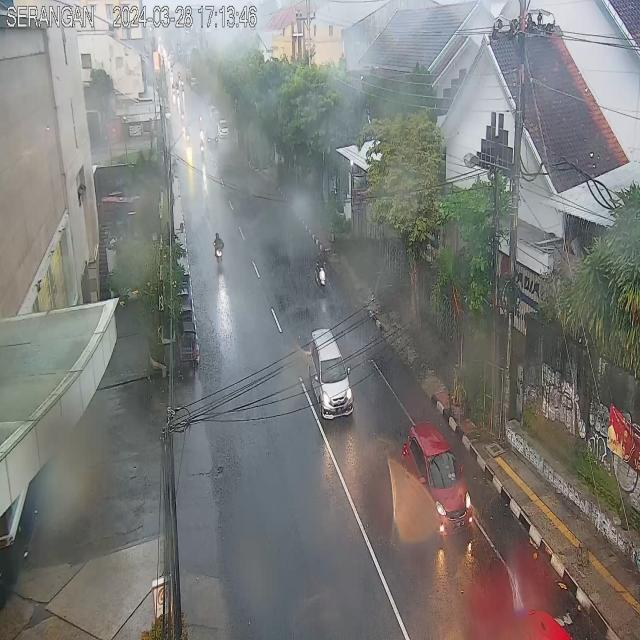car: (400, 418, 473, 540), (309, 324, 361, 420)
motorcycle: (314, 251, 327, 293), (214, 231, 224, 268)
